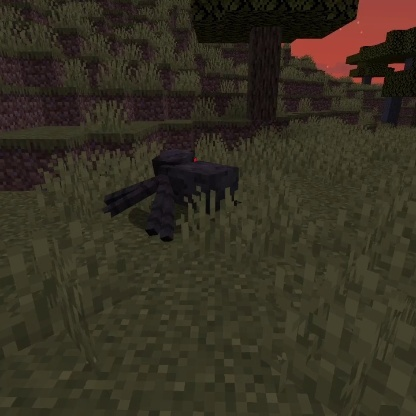spider: (101, 143, 242, 246)
